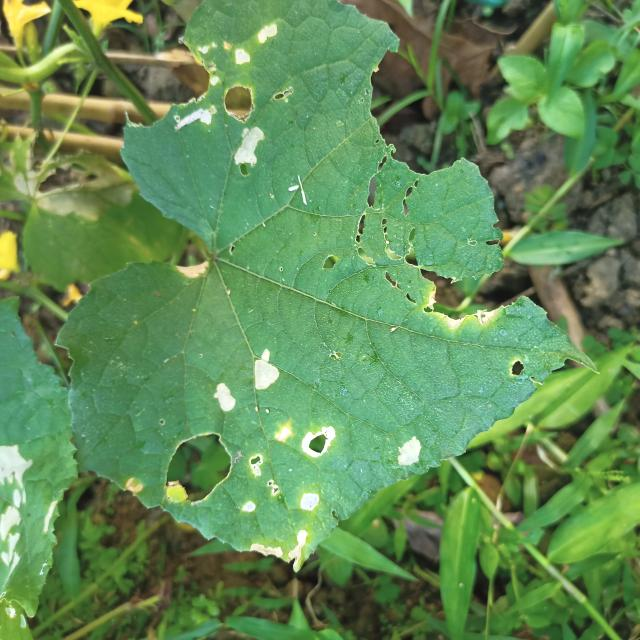disease_cucumber: (232, 422, 425, 565), (170, 20, 285, 176), (208, 347, 282, 415)
